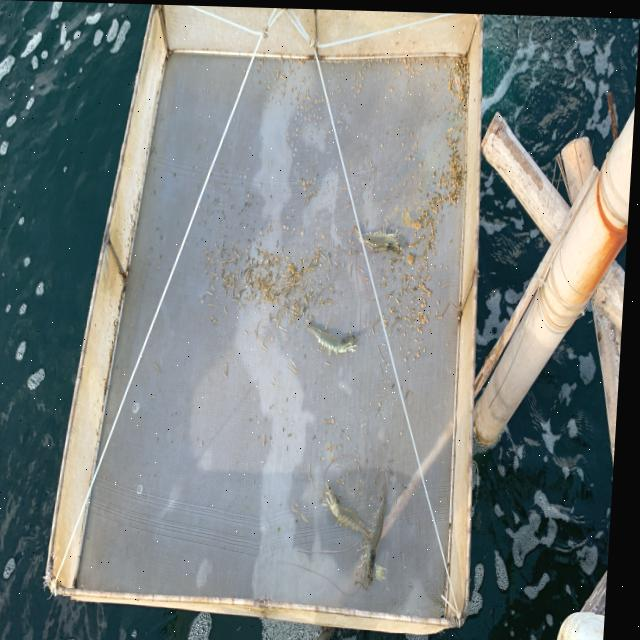Shrimp feeds: (281, 72, 288, 79), (389, 84, 394, 90), (359, 68, 363, 75), (278, 98, 282, 104), (293, 138, 296, 146), (268, 83, 272, 89), (398, 68, 402, 74), (354, 71, 357, 78), (206, 440, 209, 446), (412, 129, 415, 135), (287, 129, 291, 133), (296, 145, 299, 150), (316, 119, 319, 124), (298, 125, 301, 129), (330, 128, 333, 132), (359, 87, 362, 91), (329, 323, 331, 328), (345, 101, 347, 106), (294, 151, 297, 154), (311, 130, 314, 133)
